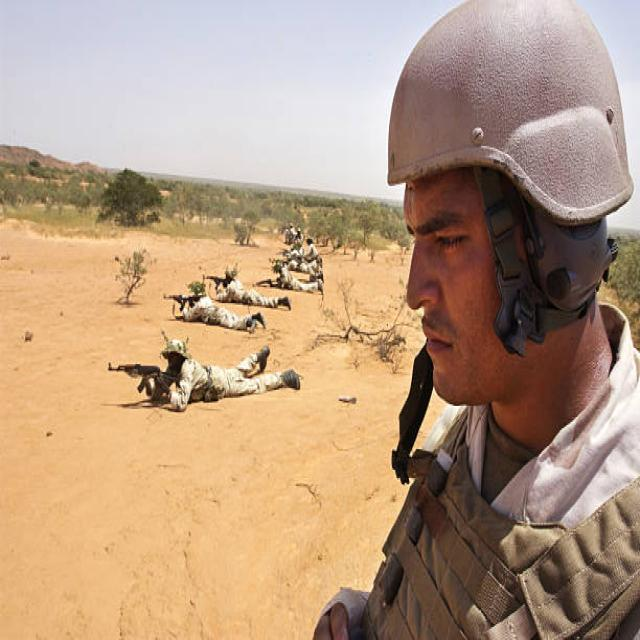soldier: (313, 0, 639, 638), (109, 341, 300, 411), (163, 281, 266, 332), (203, 269, 291, 311), (256, 263, 324, 297), (273, 253, 322, 273), (305, 236, 324, 285), (281, 223, 295, 245), (293, 228, 303, 255)
